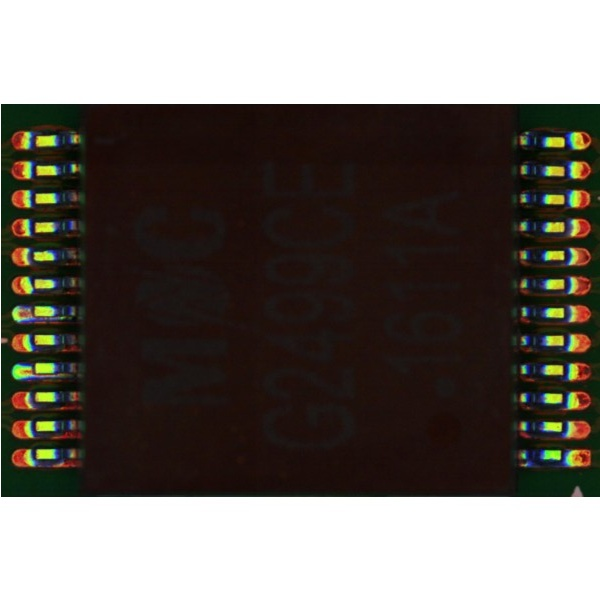Bad_podu: (19, 308, 38, 317), (21, 366, 40, 375)
Bad_qiaojiao: (31, 374, 72, 379), (33, 316, 72, 321)
